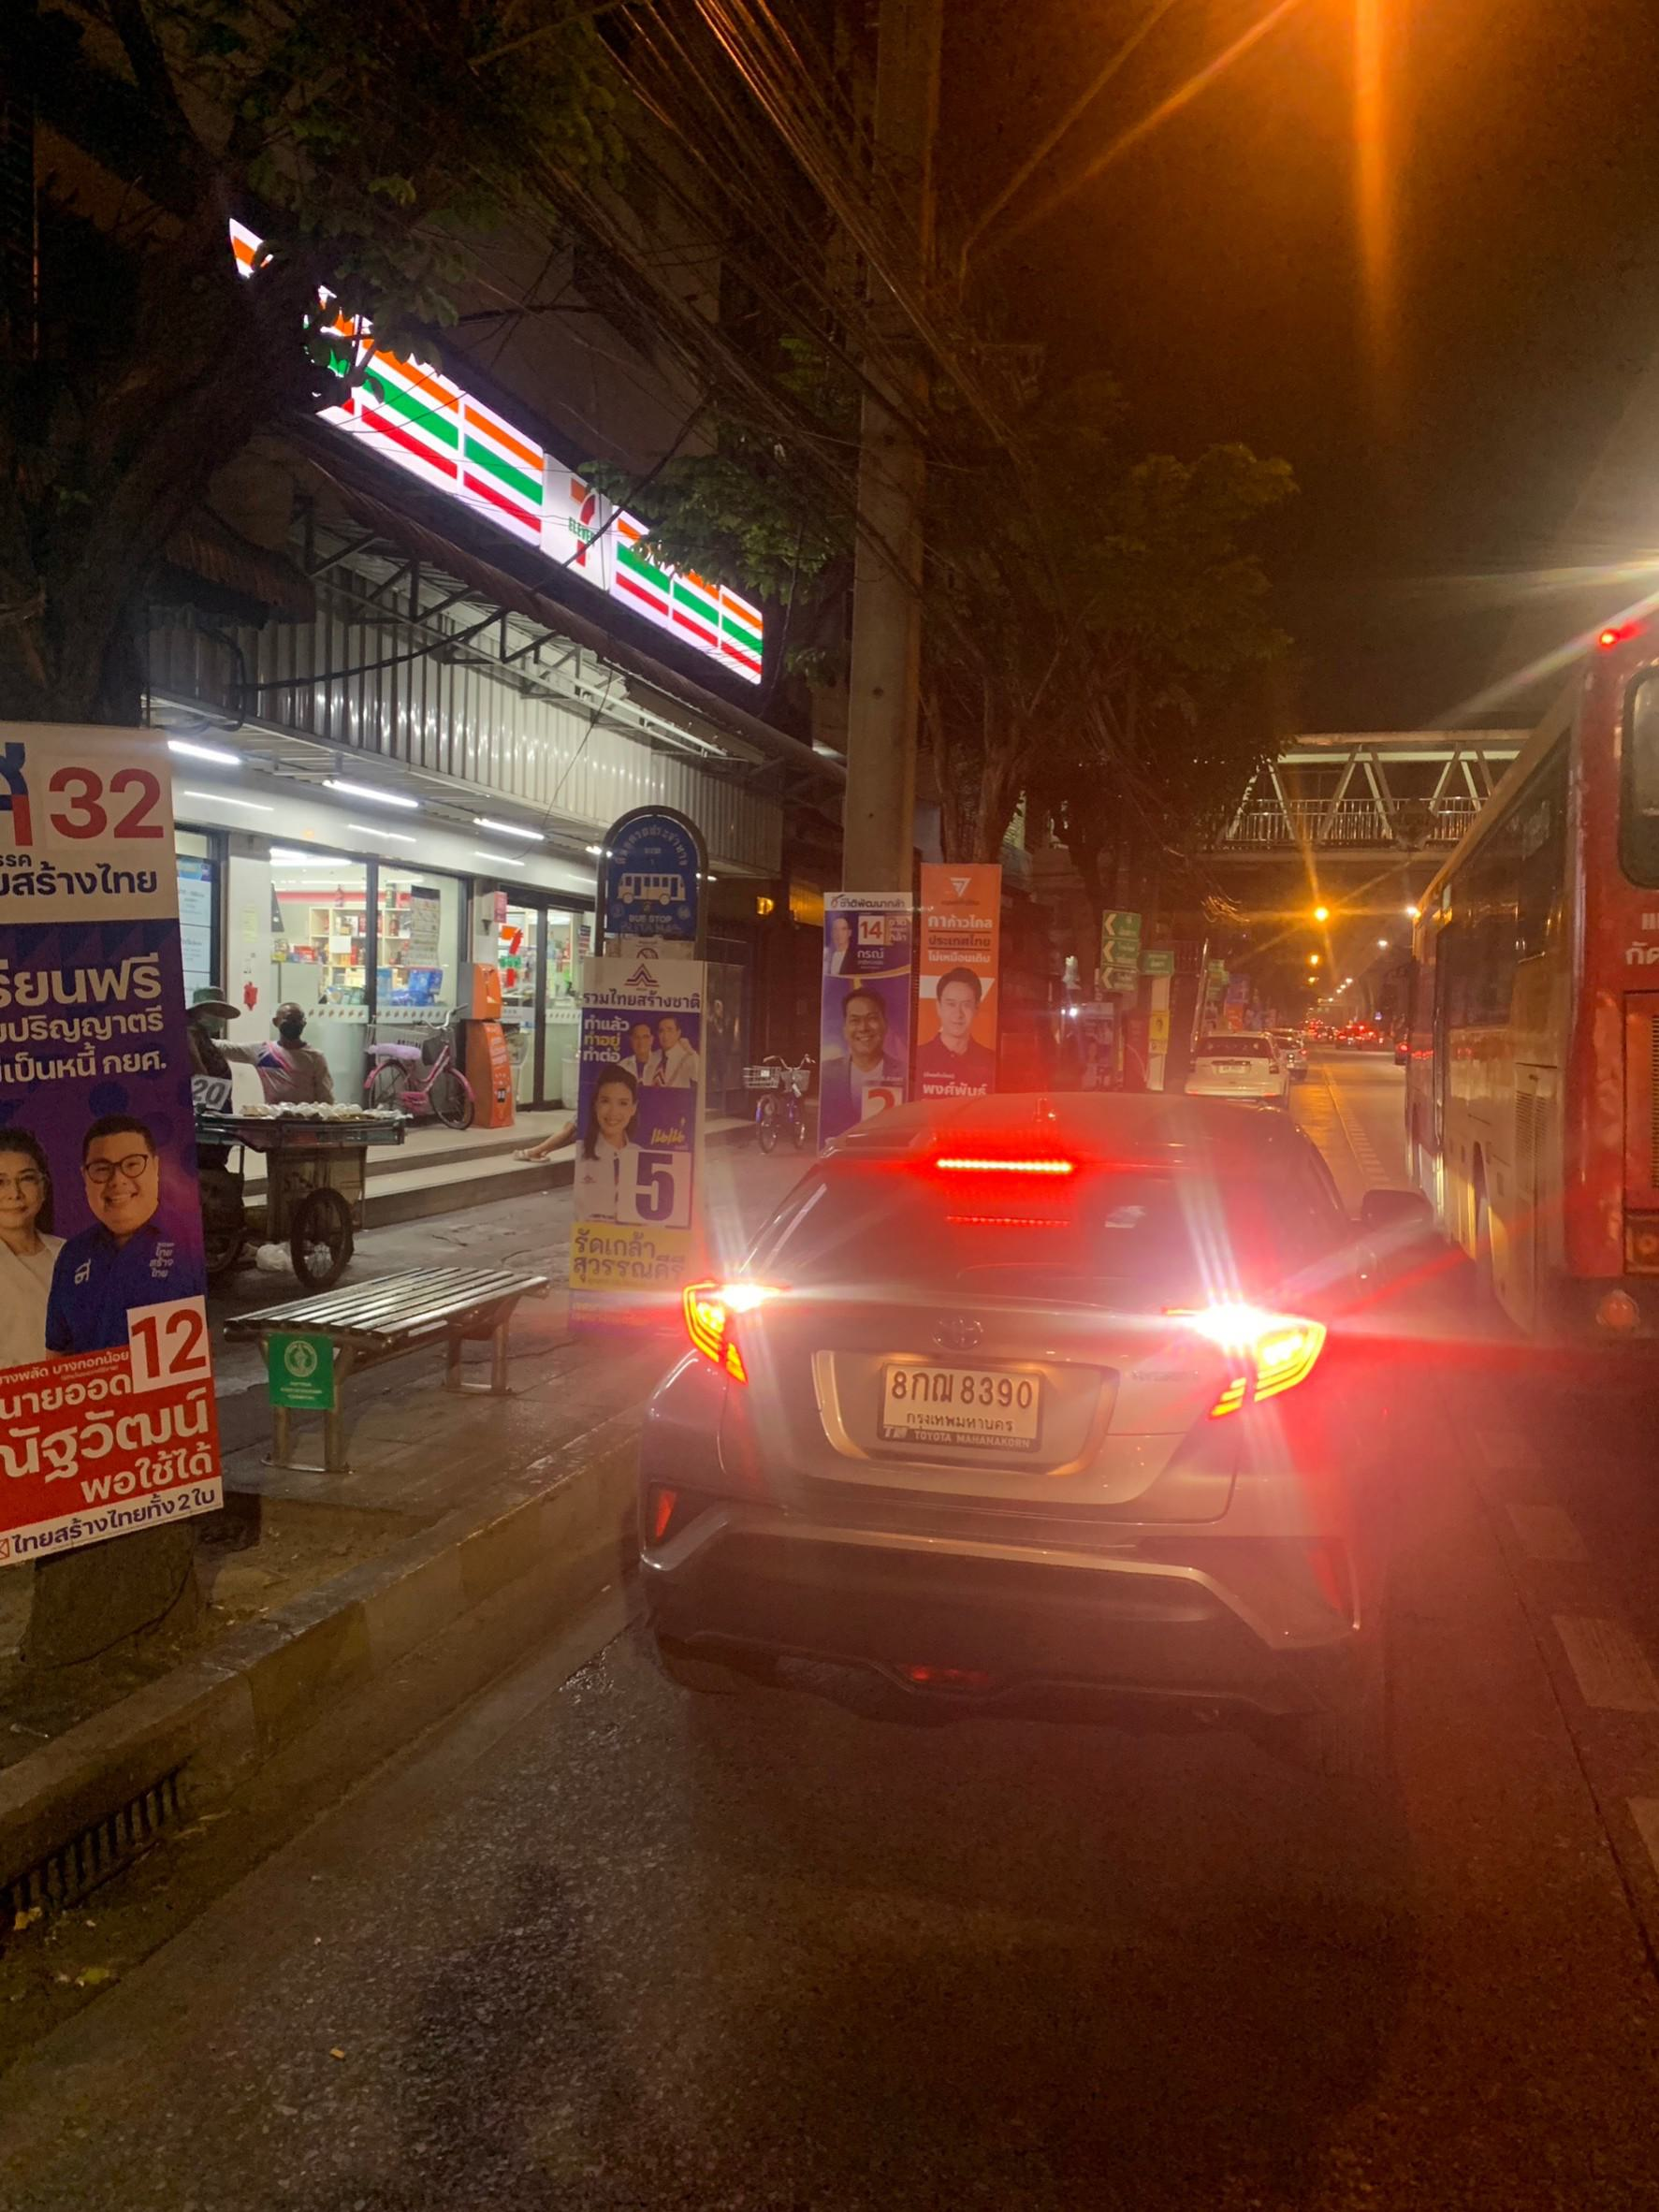Banner: (0, 718, 232, 1569), (580, 951, 714, 1292), (821, 888, 913, 1123), (913, 866, 1007, 1075)
